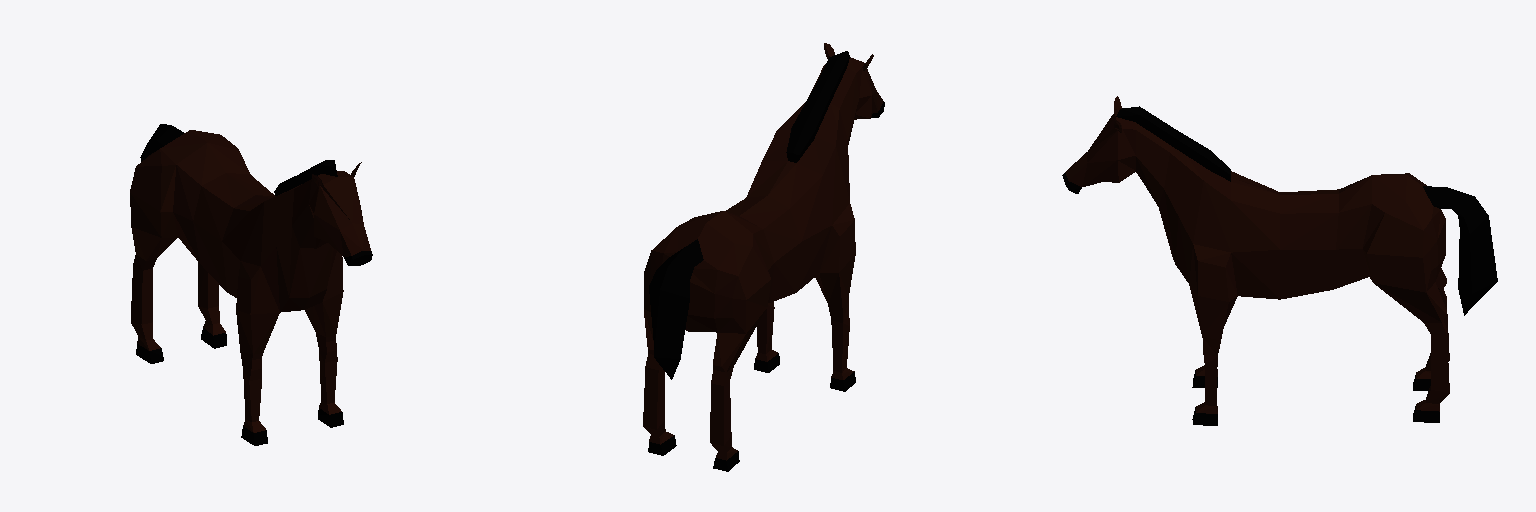
Rendered from horse 1.obj.
3 views of the same model, side by side, from view 1: azimuth 30°, elevation 25°; view 2: azimuth 150°, elevation 25°; view 3: azimuth 270°, elevation 25° (orthographic).
Parts seen in each view (by area): view 1: Horse_Cylinder.001; view 2: Horse_Cylinder.001; view 3: Horse_Cylinder.001.
Boxes of the visible parts, <box> form: Horse_Cylinder.001: <box>130,124,372,445</box>; Horse_Cylinder.001: <box>643,43,884,471</box>; Horse_Cylinder.001: <box>1062,96,1497,425</box>.
Size of the model in its own units: 2.56 by 6.91 by 9.24.